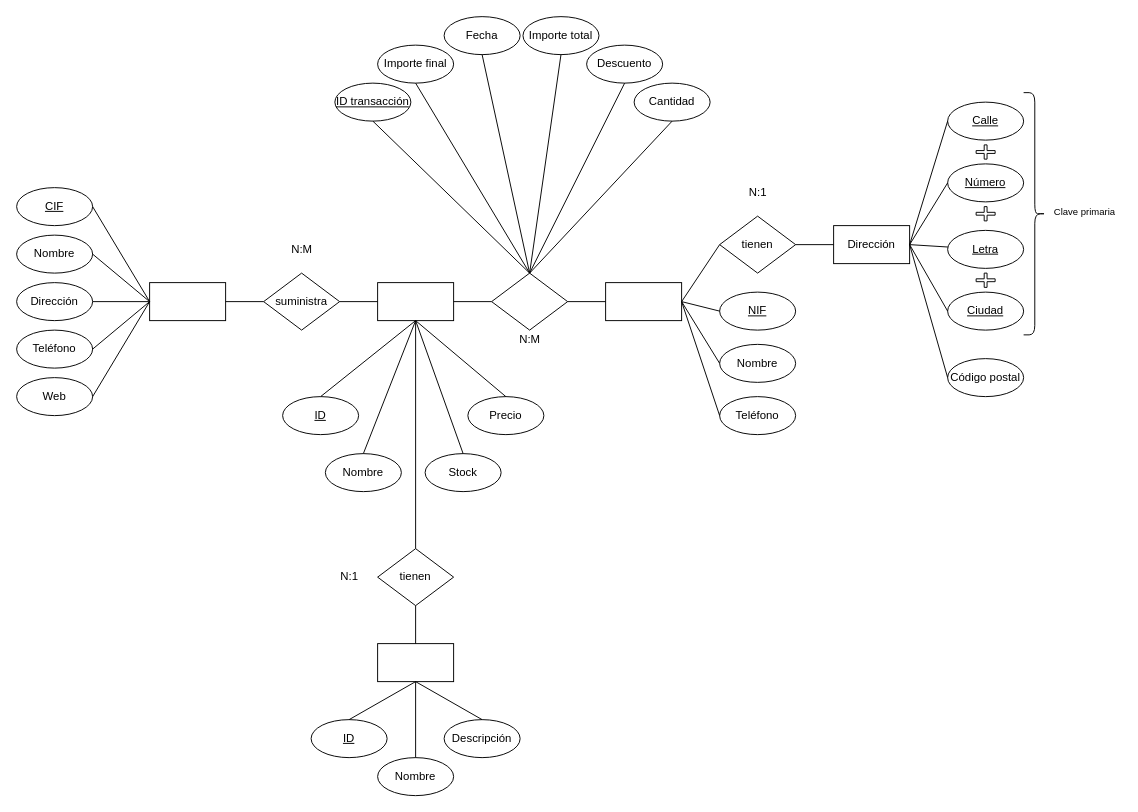
Image size: 1138x812. Some labels were removed from this diagram. Here are the shapes that lost their labels. From the top down, the centre of each, then its label:
At (x=187, y=301): "Proovedor".
At (x=415, y=301): "Producto".
At (x=529, y=301): "venta a".
At (x=643, y=301): "Cliente".
At (x=415, y=662): "Categoría".
